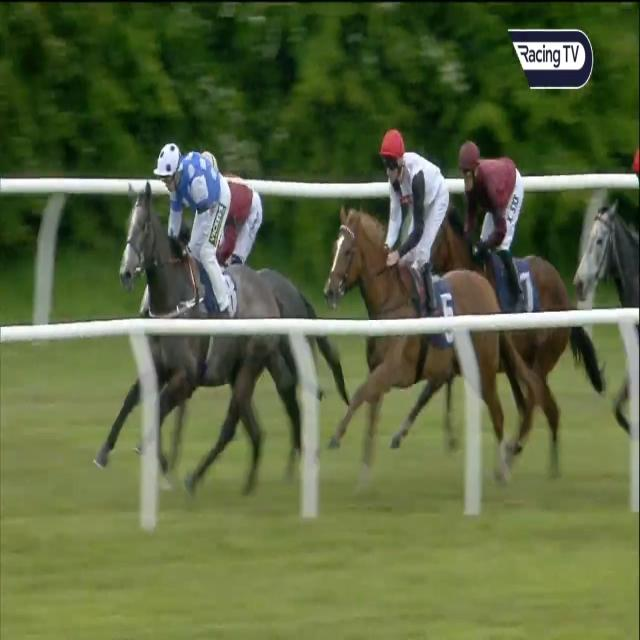horses-racing: (331, 114, 511, 497), (122, 148, 275, 519), (438, 136, 584, 404), (202, 134, 316, 357)
